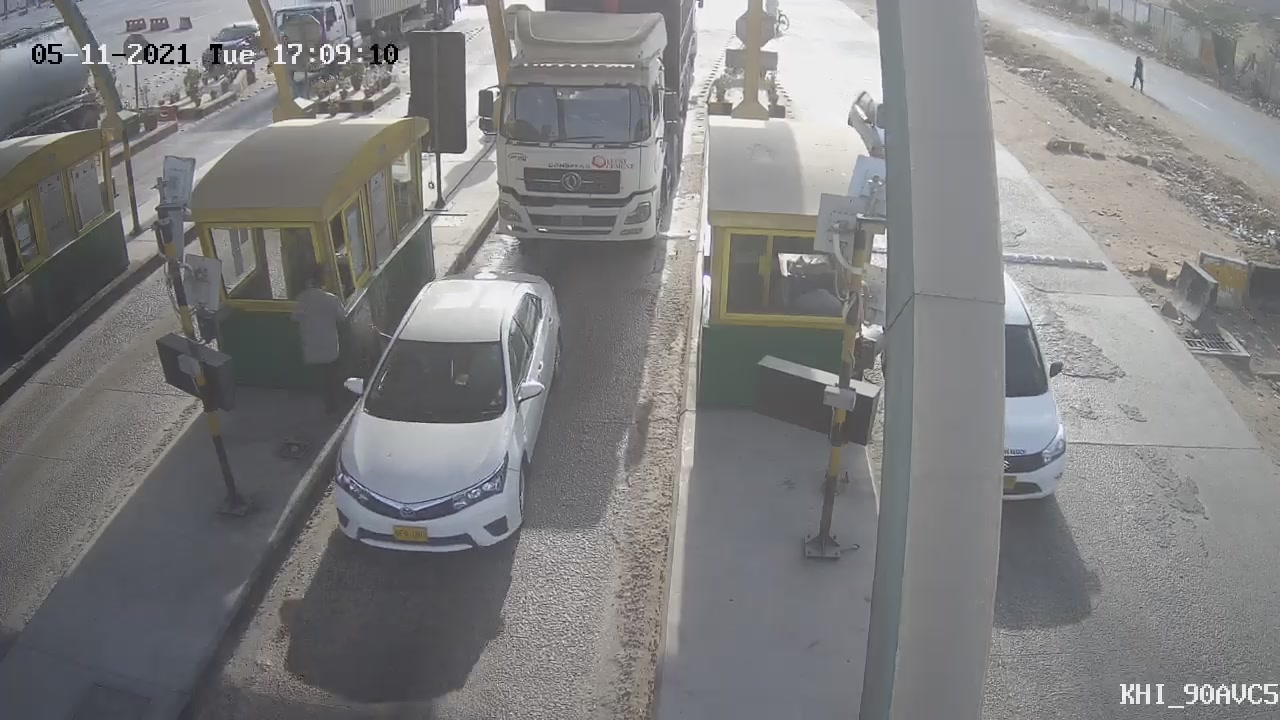F1: (304, 256, 585, 573)
F6: (478, 4, 707, 273)
